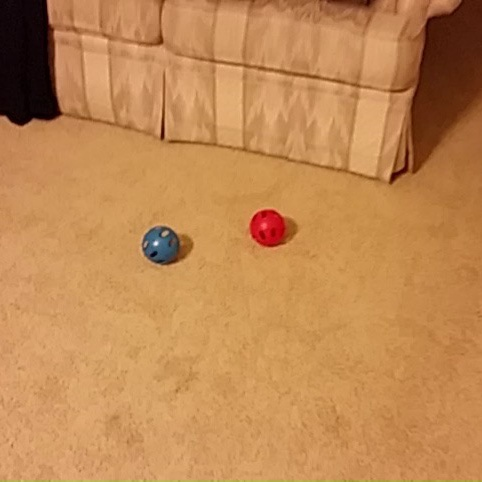blueball: (137, 220, 185, 267)
redball: (246, 204, 290, 250)
